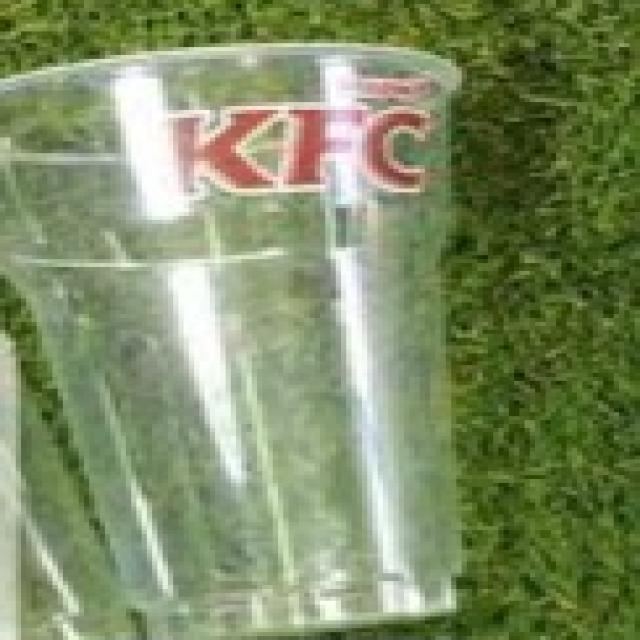plastic cup: (26, 0, 562, 636)
